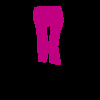pantaloni: (32, 6, 64, 65)
